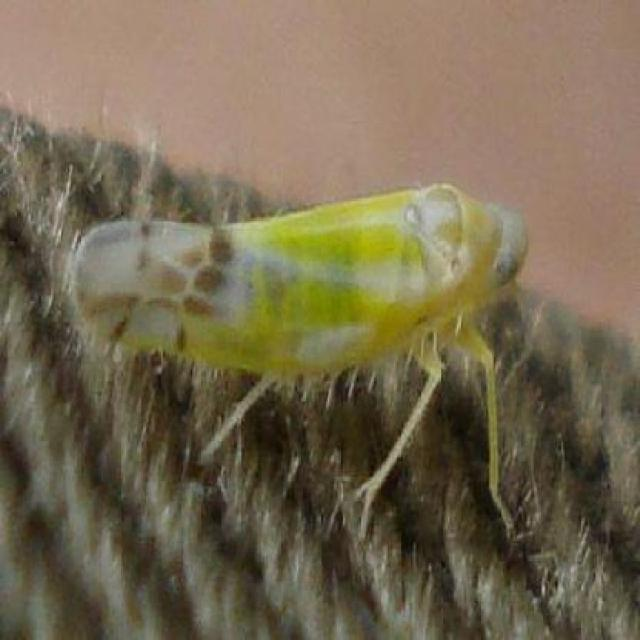green-leafhopper: (73, 178, 529, 388)
